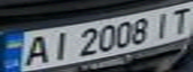0: (96, 21, 121, 53), (115, 18, 136, 48)
2: (75, 25, 100, 56)
8: (130, 15, 154, 45)
A: (15, 33, 54, 67)
I: (42, 29, 75, 62), (148, 9, 175, 38)
T: (163, 3, 193, 35)
